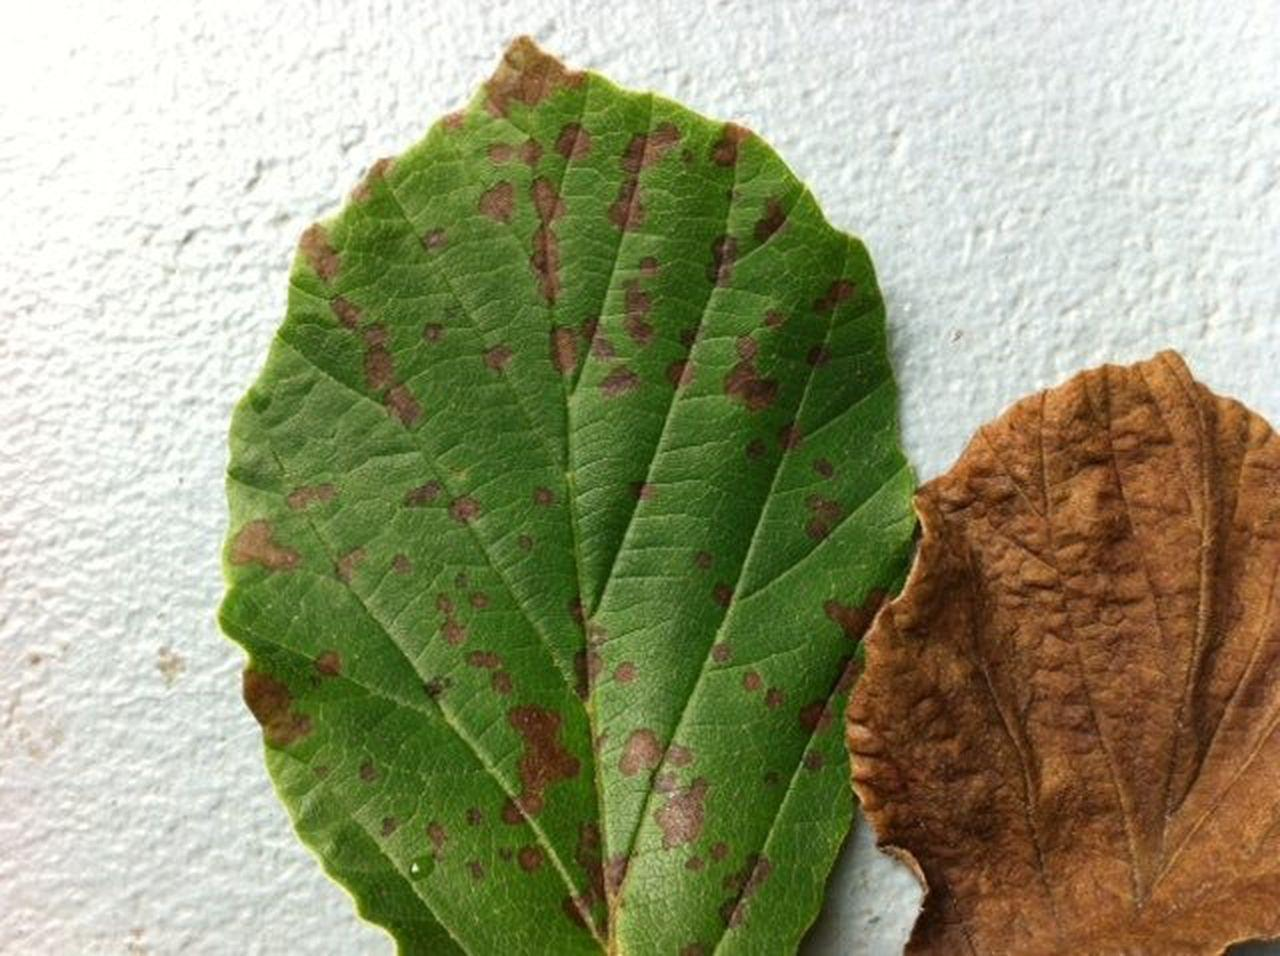black-spot: (337, 218, 555, 836)
